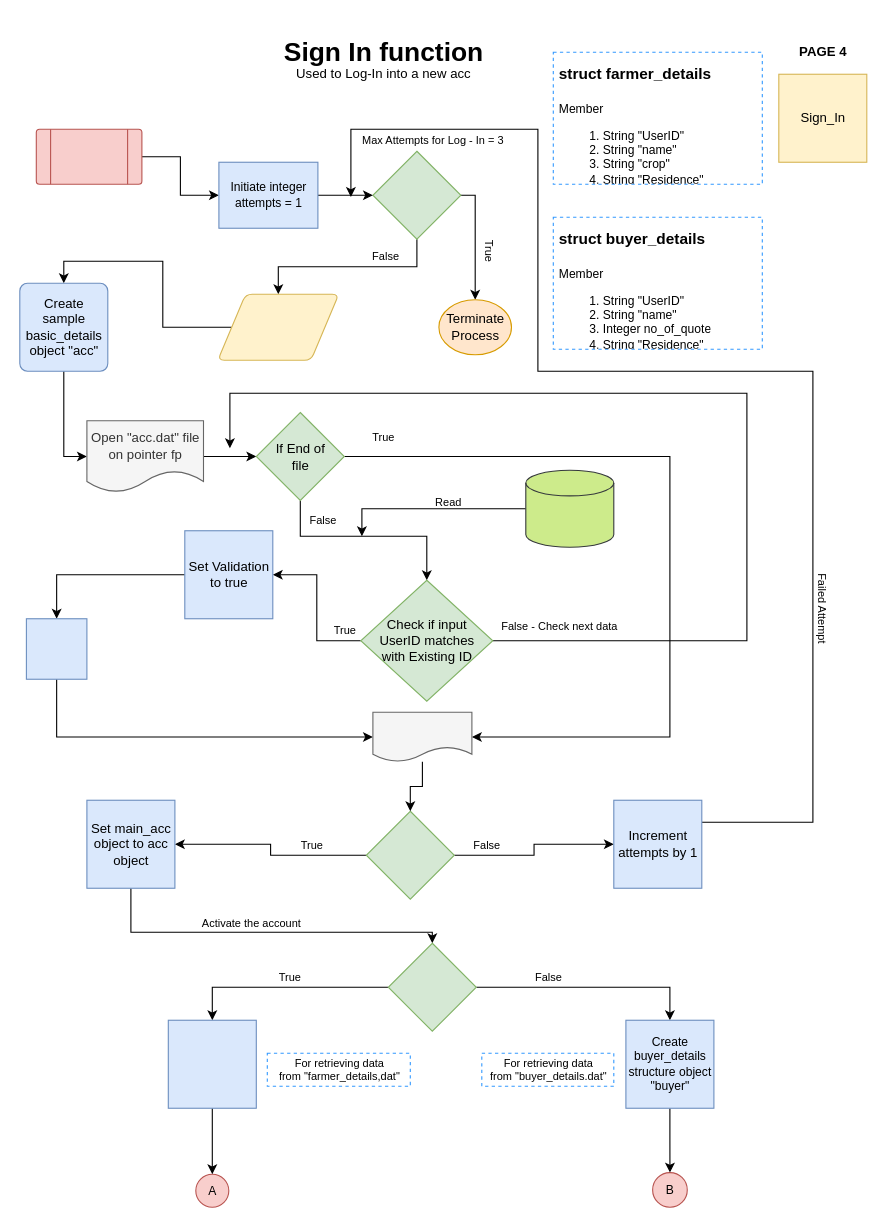
This 886x1227 diagram has some shape labels left out. Here are the shapes that lost their labels. From the top down, the centre of each, then its label:
point (88, 156): Login Process
point (416, 194): Is attempts = 3?
point (278, 326): Request UserID and Password from User
point (569, 508): Read Data from "acc.dat"
point (56, 648): Break
point (422, 736): Close "acc.dat"
point (409, 854): Check if validated is true
point (431, 986): Check if farmer
point (211, 1063): Create farmer_details structure object "farmer"
